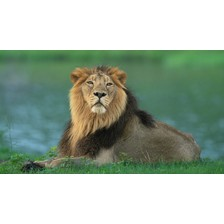lion: (21, 64, 201, 171)
